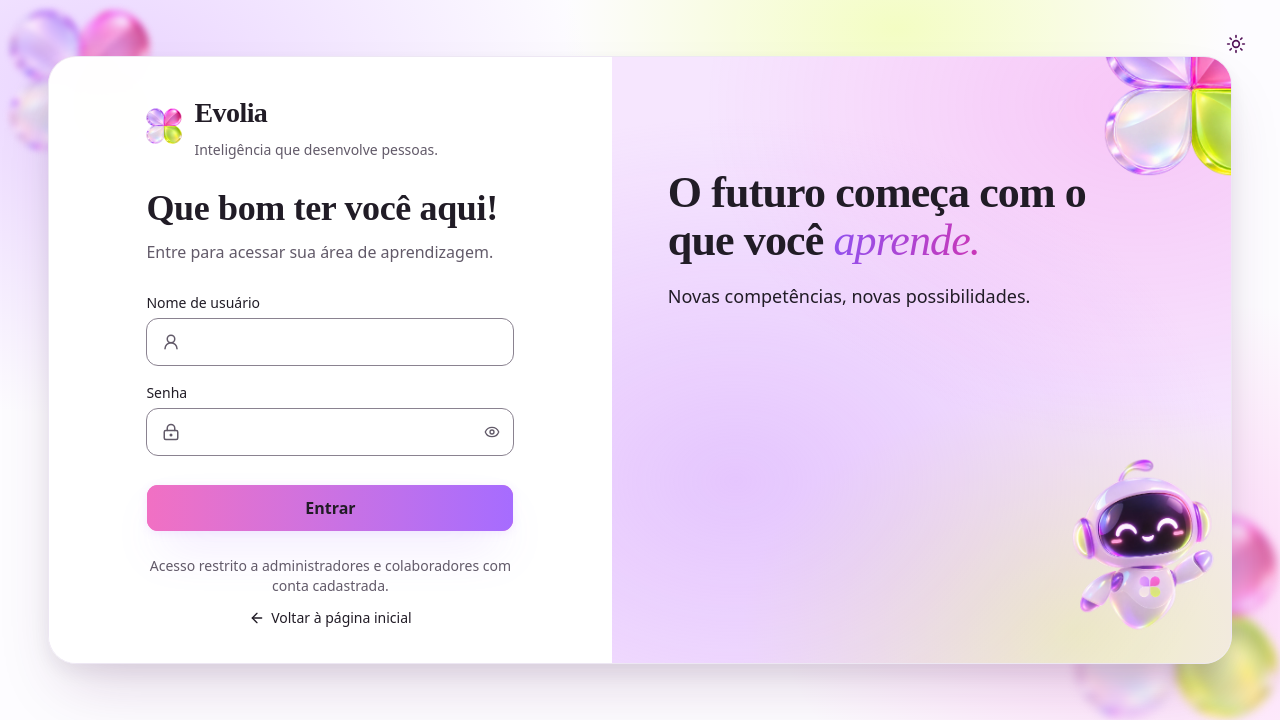
Test: validação › exige os dois campos sem chamar a API
Click the button "Entrar" at point(330, 508), box [146, 484, 514, 532]
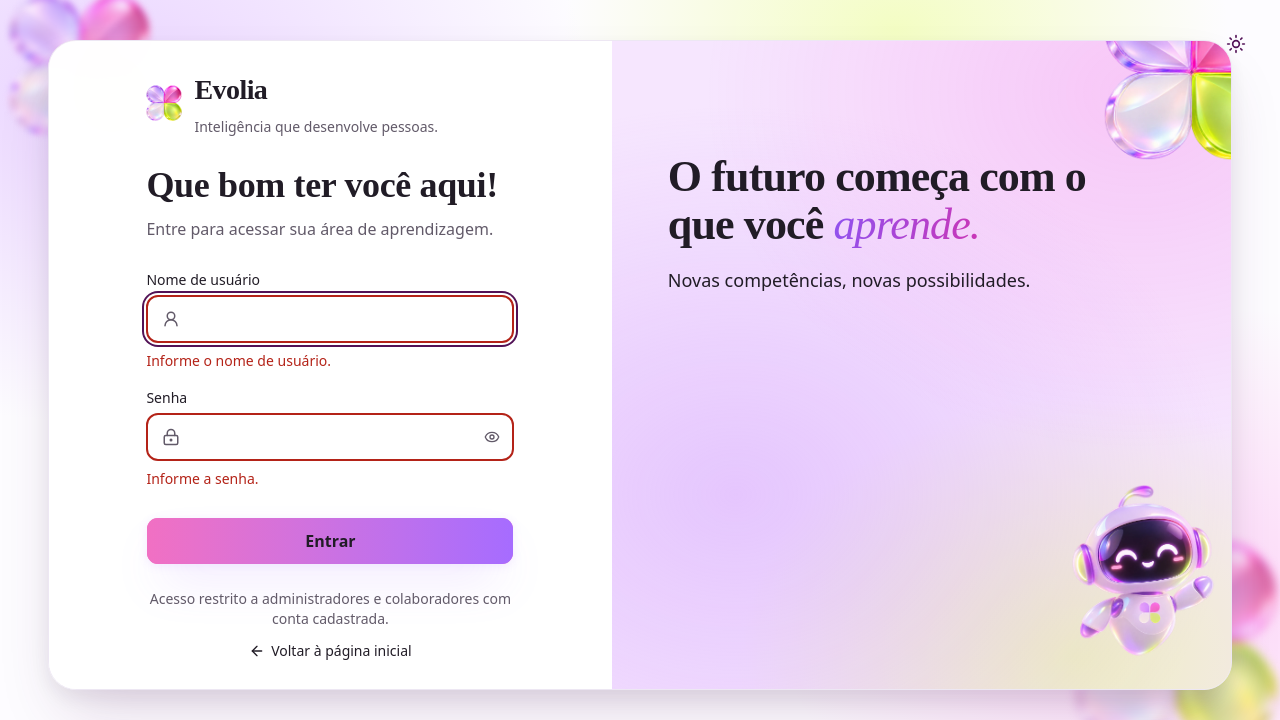
Now the text "Informe o nome de usuário." is shown, box [146, 351, 331, 370]
Now the text "Informe a senha." is shown, box [146, 469, 258, 488]
